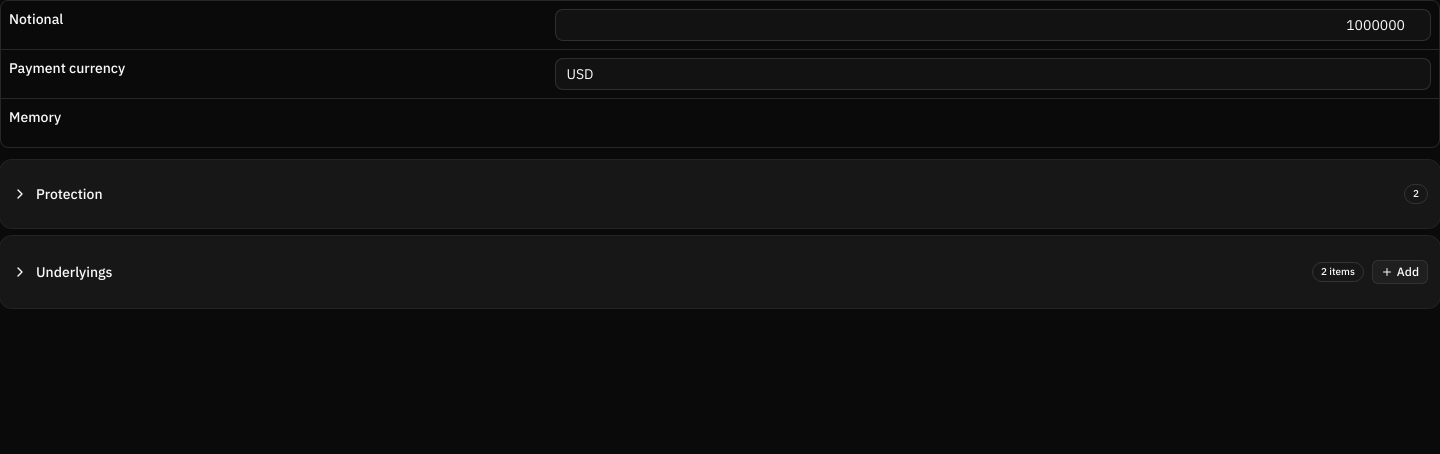
Test: DeepForm auto mode › expands a nested object card on click
Step 1. Click the button "Protection 2" → [69, 194], box [12,184,1428,204]
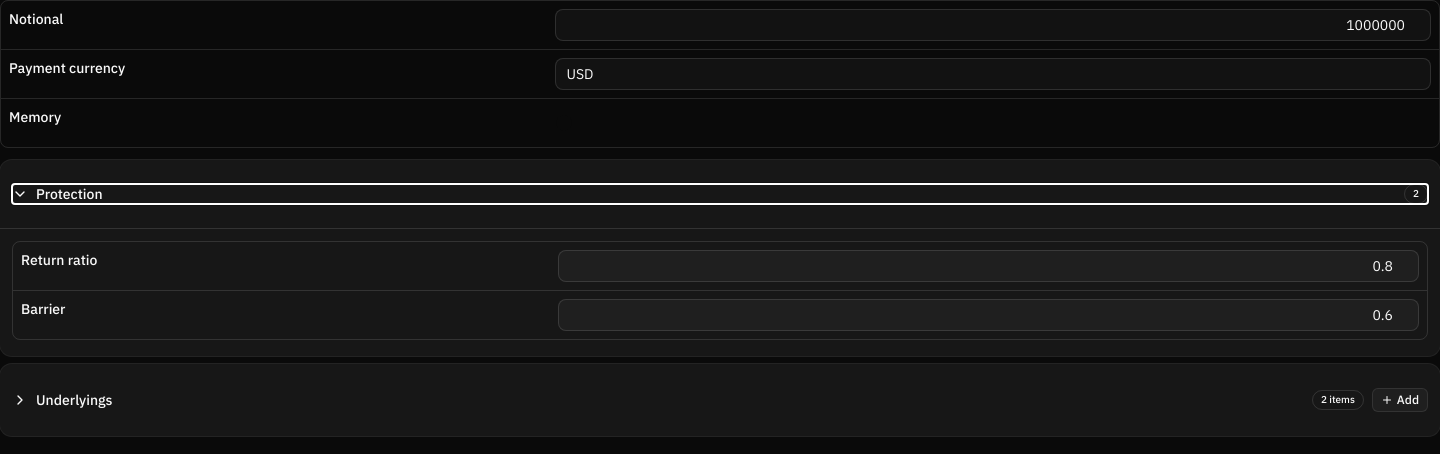
Expected: the text "Return ratio" is shown, [21,251,97,269]
Expected: the text "Barrier" is shown, [21,300,66,318]
